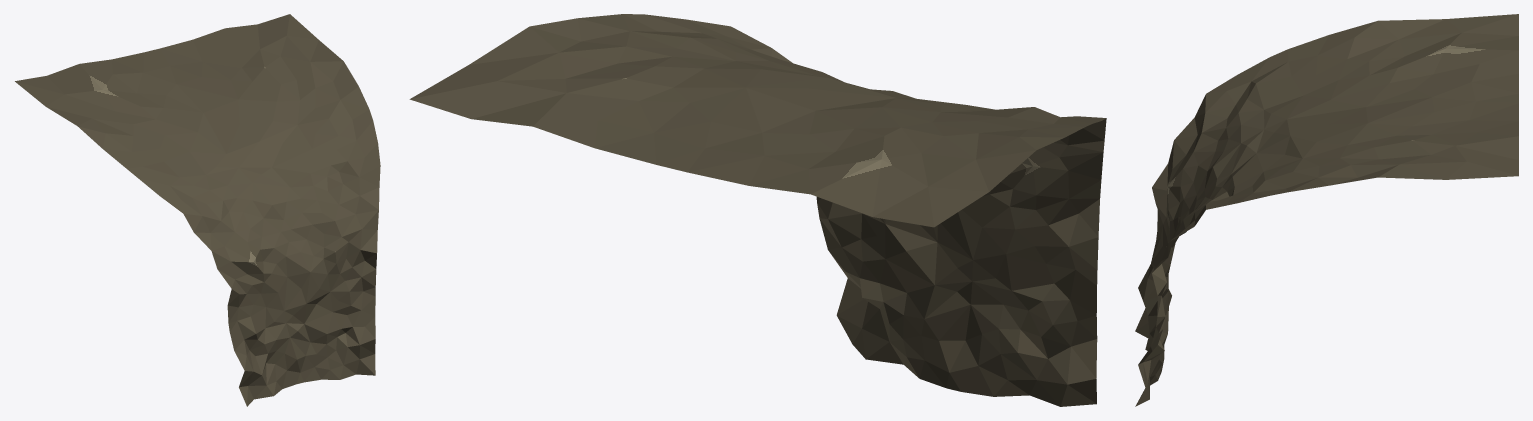
File: Waterfall_02.fbx
3 views of the same model, side by side, from view 1: azimuth 30°, elevation 25°; view 2: azimuth 150°, elevation 25°; view 3: azimuth 270°, elevation 25° (orthographic). The views are drawn at different scales.
Visible parts, largest first — view 1: Waterfall_02; view 2: Waterfall_02; view 3: Waterfall_02.
Part boxes in pixels (x1=…): Waterfall_02: x1=15, y1=14, x2=380, y2=406; Waterfall_02: x1=409, y1=14, x2=1106, y2=406; Waterfall_02: x1=1135, y1=14, x2=1518, y2=406.
Bounding box in the file's own units: 100 × 79.38 × 100.
Materials: 1 (1 with a texture image).
